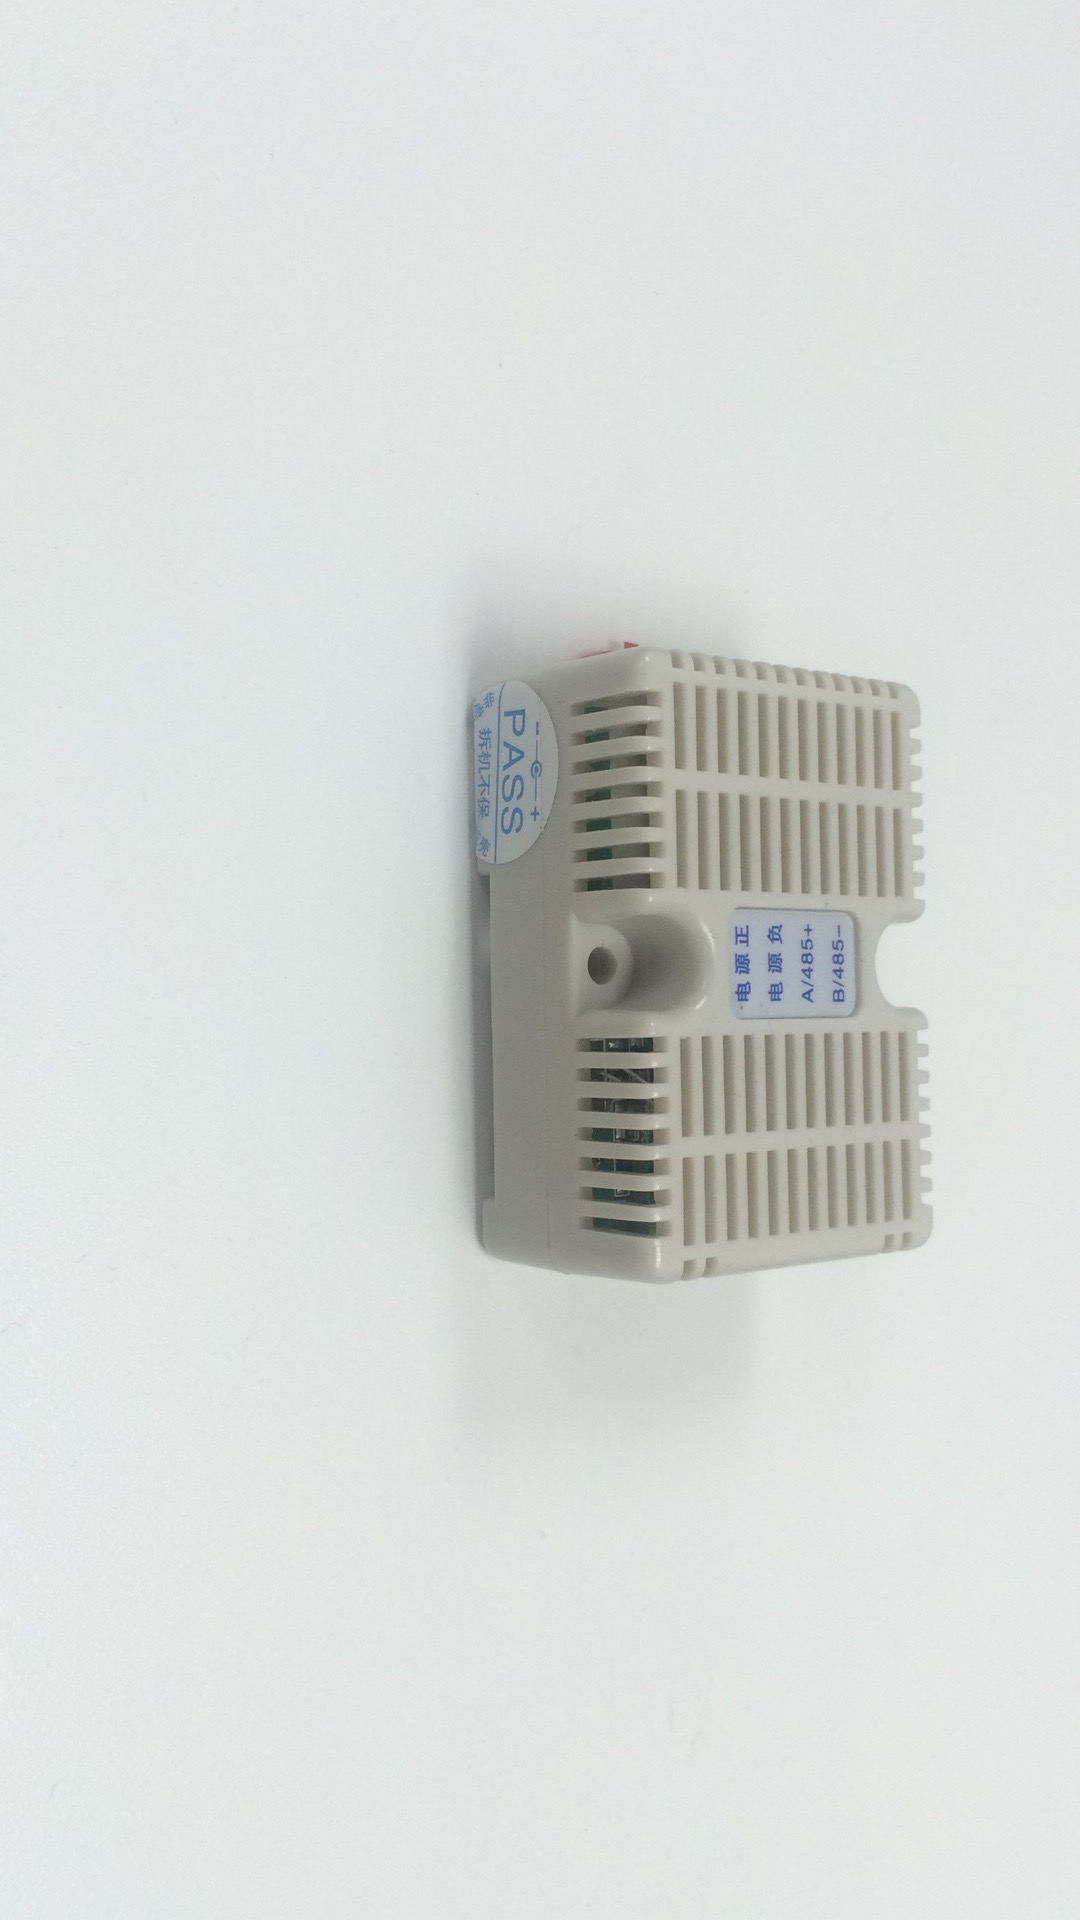temperature: (465, 616, 957, 1278)
